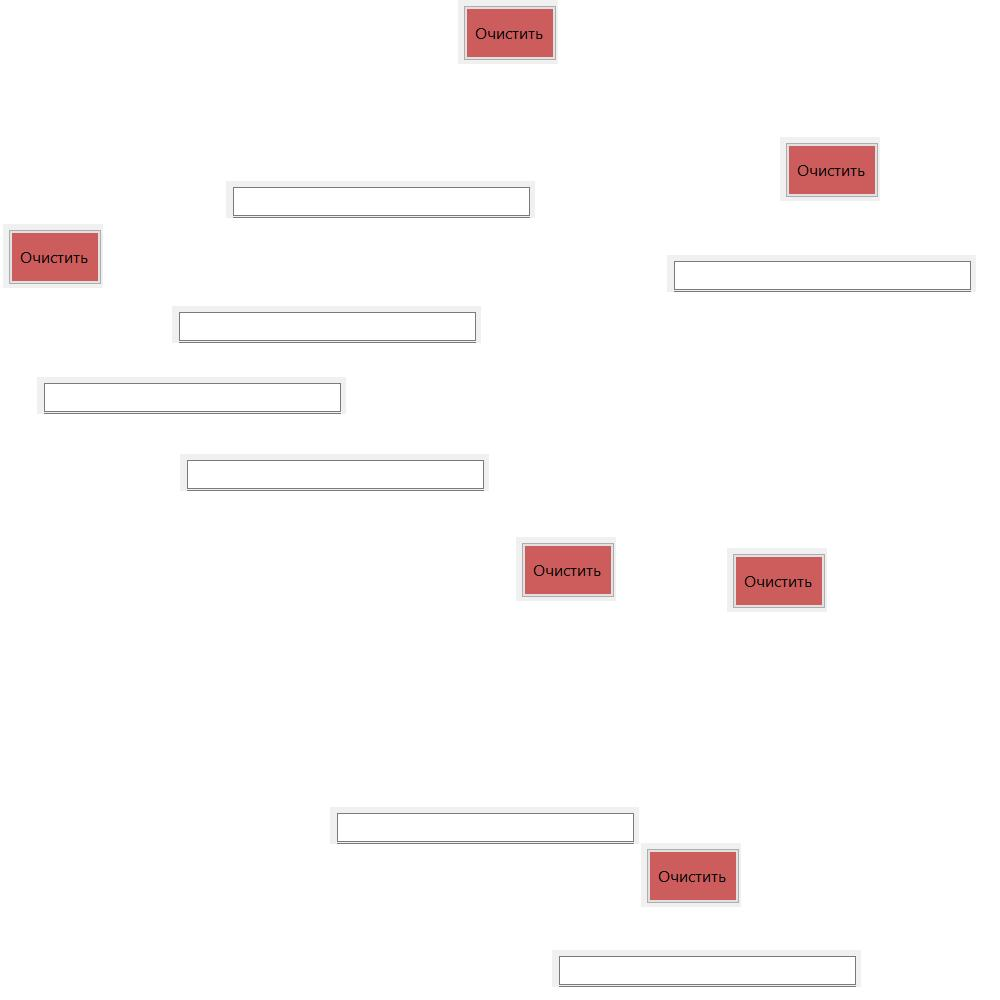Button: (516, 537, 616, 601), (780, 137, 880, 201), (3, 224, 103, 288), (727, 548, 827, 612), (458, 0, 558, 64), (641, 843, 741, 907)
EditText-: (667, 255, 976, 292), (330, 807, 639, 844), (552, 950, 861, 987), (226, 181, 535, 218), (172, 306, 481, 343), (37, 377, 346, 414), (180, 454, 489, 491)
